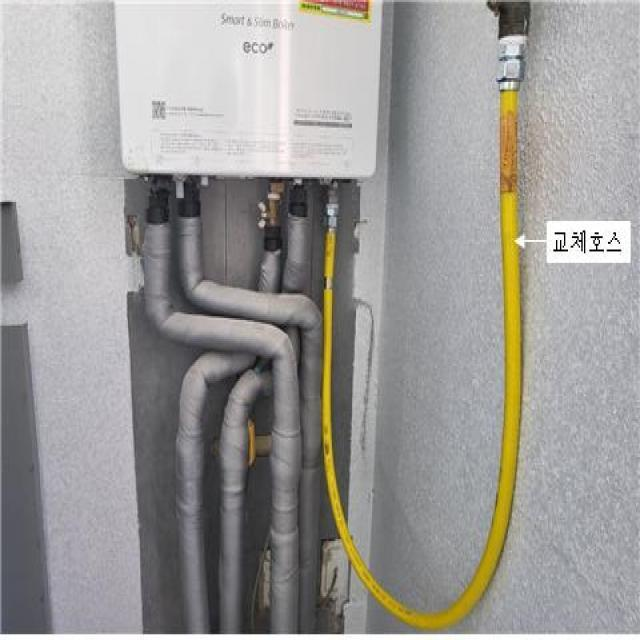Boiler: (105, 0, 391, 192)
